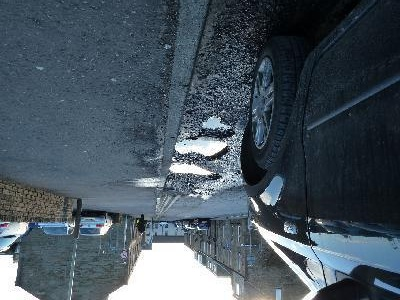pothole: (172, 137, 228, 160), (166, 159, 221, 182), (197, 114, 234, 137)
